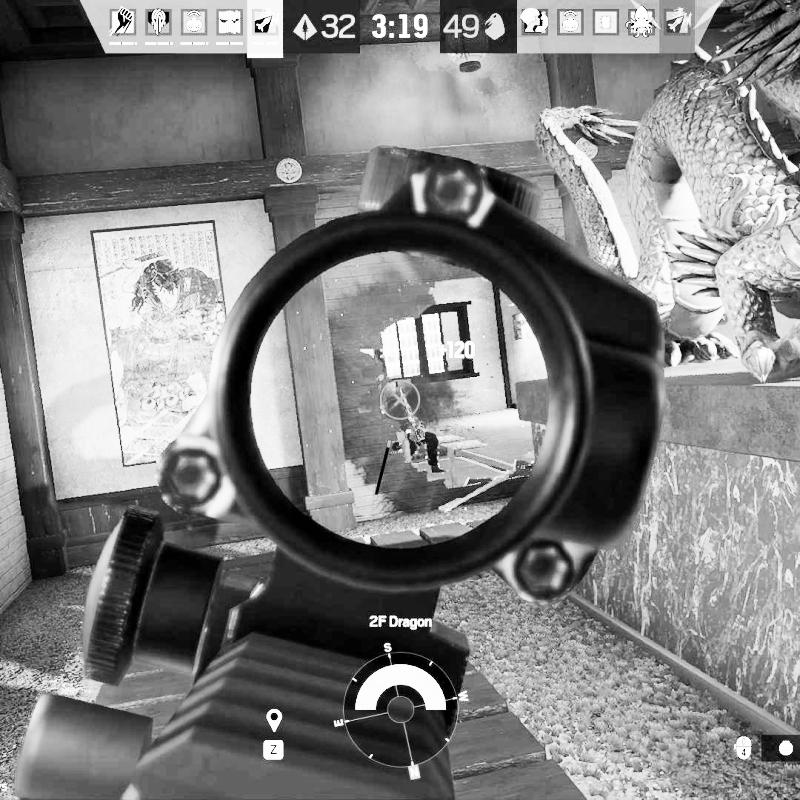Character: (388, 387, 444, 472)
